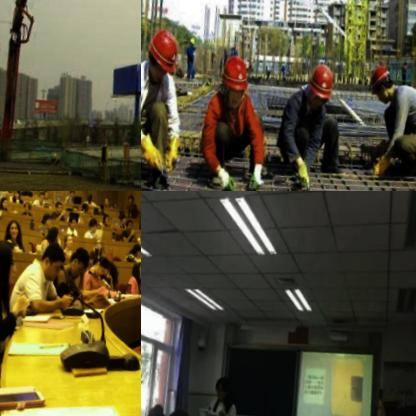head: (32, 246, 62, 288), (59, 252, 85, 288), (0, 240, 16, 289), (206, 377, 226, 404), (2, 220, 19, 243), (87, 261, 104, 283), (41, 226, 58, 246), (141, 401, 163, 416), (125, 266, 141, 285), (94, 264, 107, 284), (83, 220, 96, 239), (36, 214, 50, 230), (88, 241, 100, 259), (126, 246, 138, 263), (67, 207, 78, 221), (97, 216, 108, 230), (60, 237, 70, 252), (64, 219, 74, 233), (50, 204, 60, 217), (0, 196, 7, 213), (20, 204, 29, 217), (9, 191, 18, 203), (121, 224, 130, 236), (34, 194, 42, 207), (63, 191, 72, 202), (93, 207, 102, 218), (39, 191, 47, 202), (133, 222, 141, 233), (115, 211, 123, 221), (78, 206, 86, 216), (83, 195, 91, 205), (115, 217, 122, 228), (137, 232, 141, 246), (124, 200, 130, 209), (100, 202, 106, 211), (20, 191, 30, 194)
helmet: (141, 23, 180, 89), (210, 52, 251, 112), (295, 63, 336, 119), (359, 65, 392, 109)
